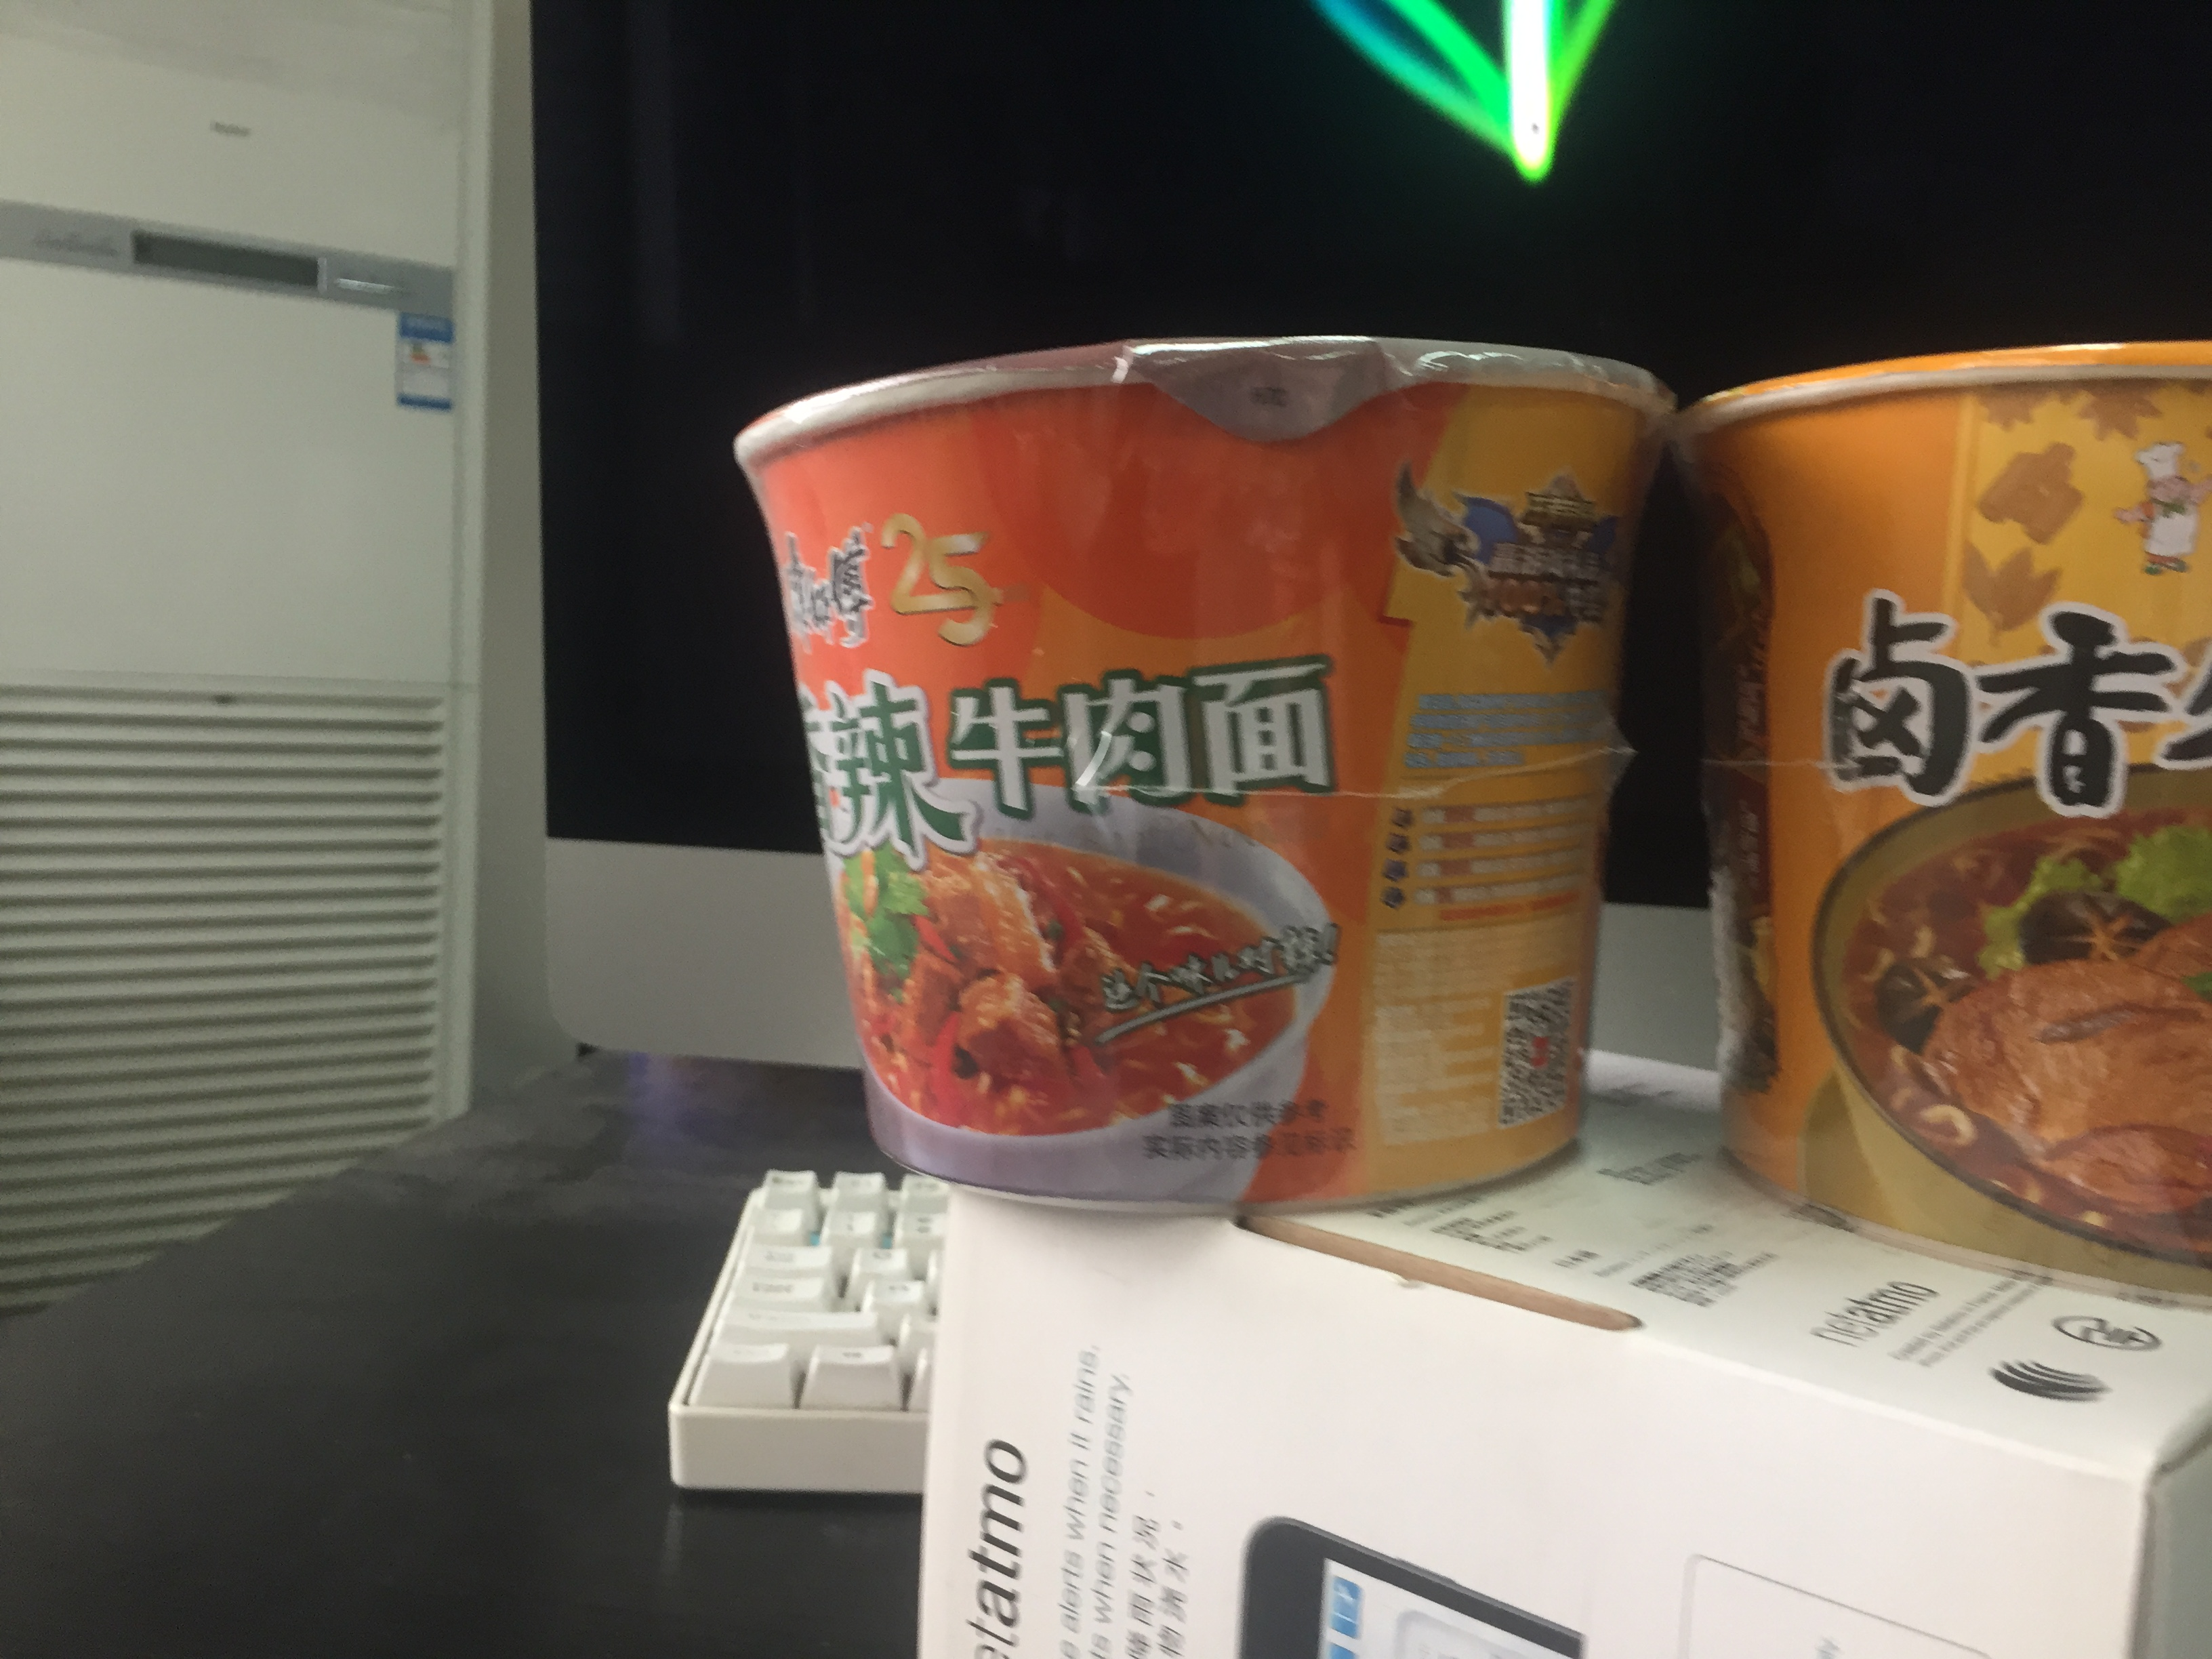luxiang: (1670, 338, 2212, 1316)
xiangla: (730, 335, 1674, 1216)
